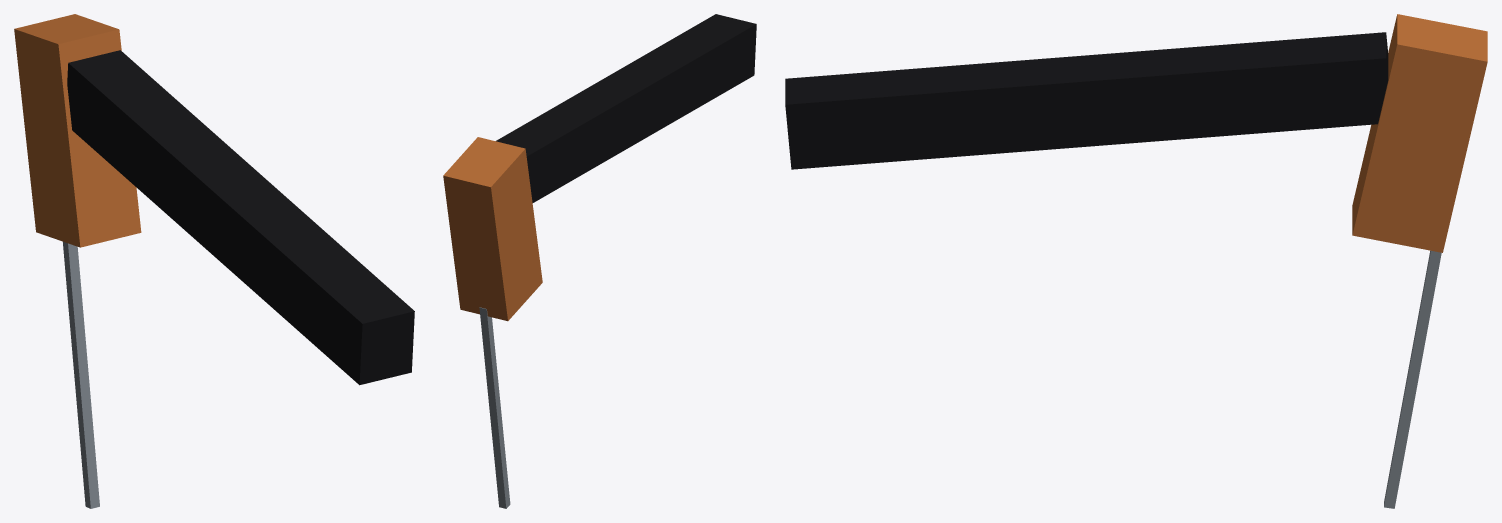
The model's file is oil_extractor_beam.obj.
3 renders of one model, left to right at view 1: azimuth 30°, elevation 25°; view 2: azimuth 150°, elevation 25°; view 3: azimuth 270°, elevation 25°, orthographic. The views are drawn at different scales.
Visible parts, largest first — view 1: Body; view 2: Body; view 3: Body.
Part boxes in pixels (left/top/right/bottom): Body: left=14, top=14, right=414, bottom=508; Body: left=443, top=14, right=756, bottom=508; Body: left=785, top=14, right=1487, bottom=508.
Bounding box in the file's own units: 0.14 × 1.03 × 1.37.
